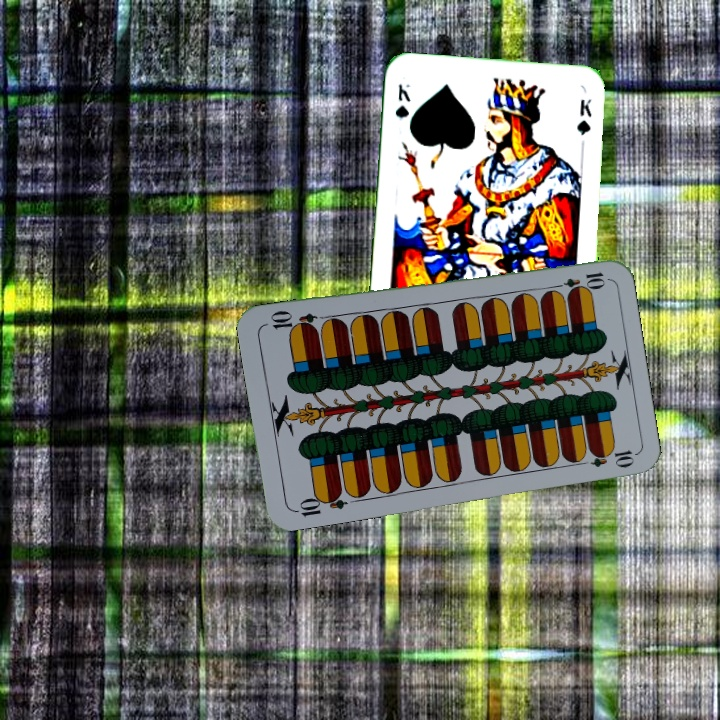E10: (290, 487, 349, 520), (548, 267, 608, 293)
GK: (391, 79, 413, 121)
